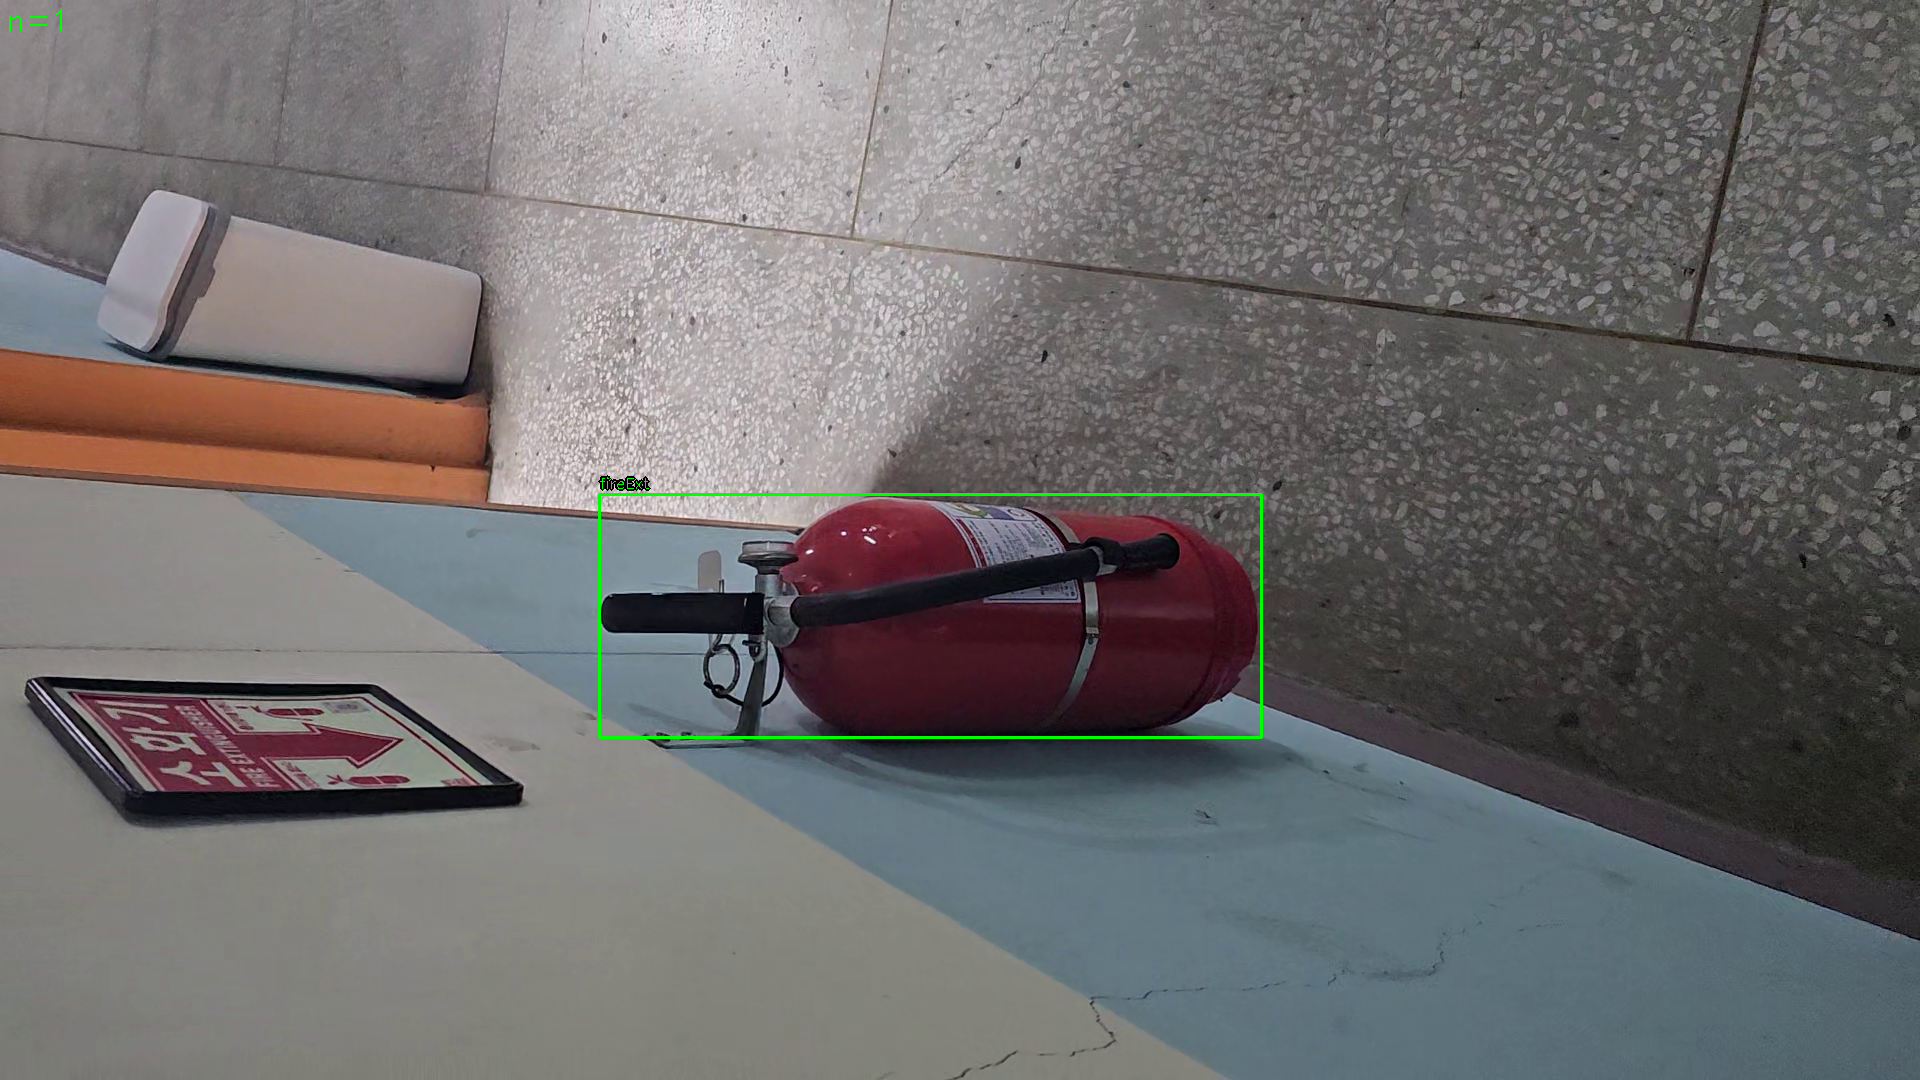lane: (599, 495, 1262, 738)
